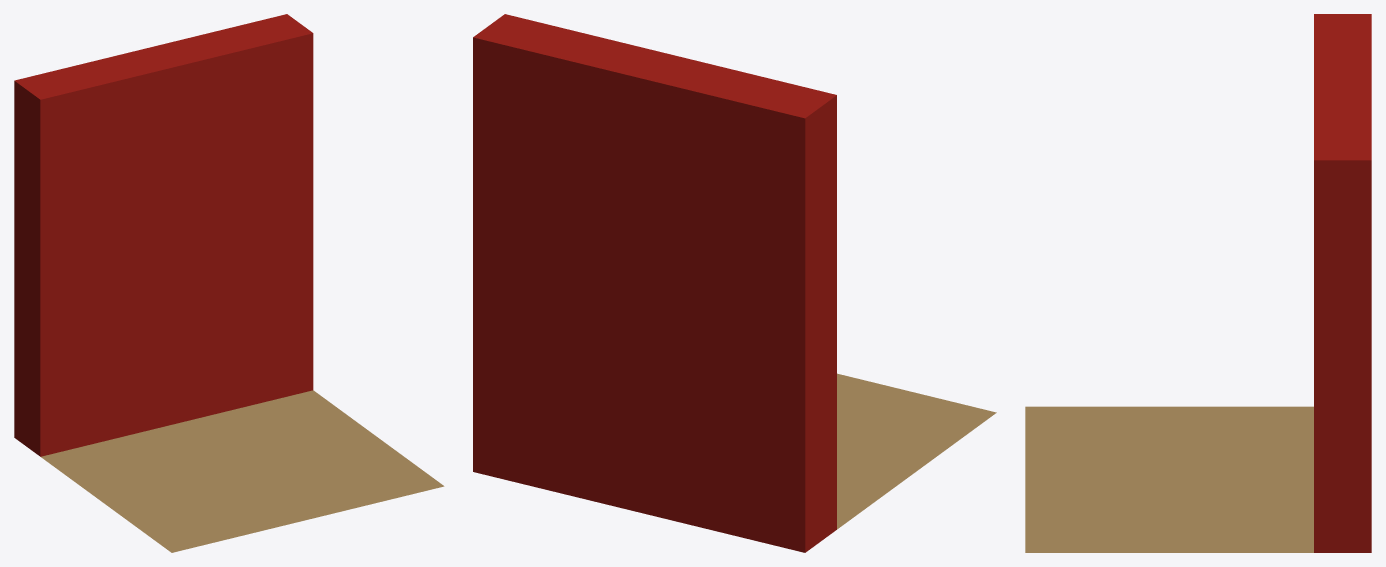
Rendered from wall1.obj.
The picture shows the model from 3 angles, left to right: view 1: azimuth 30°, elevation 25°; view 2: azimuth 150°, elevation 25°; view 3: azimuth 270°, elevation 25°; orthographic projection. The views are drawn at different scales.
Visible parts, largest first — view 1: Cube_Cube.001, Mesh1_Plate_Grass_Dirt_Model; view 2: Cube_Cube.001, Mesh1_Plate_Grass_Dirt_Model; view 3: Mesh1_Plate_Grass_Dirt_Model, Cube_Cube.001.
Boxes of the visible parts, x1=… form: Cube_Cube.001: x1=14, y1=14, x2=313, y2=456; Mesh1_Plate_Grass_Dirt_Model: x1=41, y1=390, x2=444, y2=552; Cube_Cube.001: x1=473, y1=14, x2=836, y2=552; Mesh1_Plate_Grass_Dirt_Model: x1=837, y1=373, x2=996, y2=529; Mesh1_Plate_Grass_Dirt_Model: x1=1025, y1=406, x2=1313, y2=552; Cube_Cube.001: x1=1314, y1=14, x2=1371, y2=552.
Bounding box in the file's own units: 3 × 3.75 × 3.
